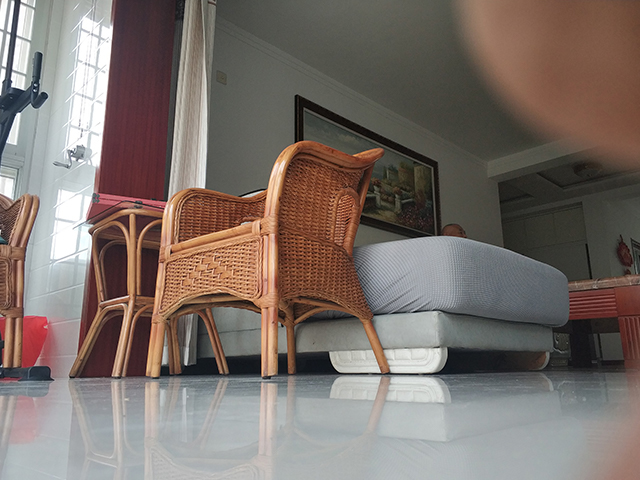sofa: (292, 233, 574, 379)
stool: (152, 138, 392, 378)
table: (67, 199, 231, 380)
